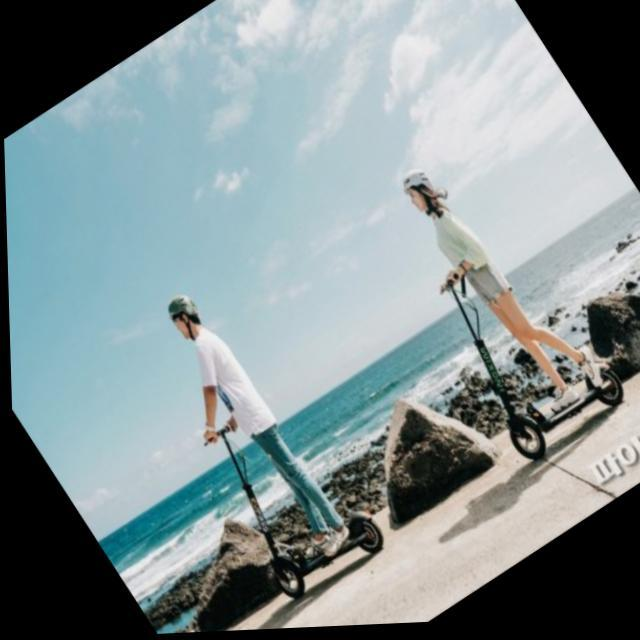Helmet: (400, 166, 448, 232), (160, 285, 202, 346)
